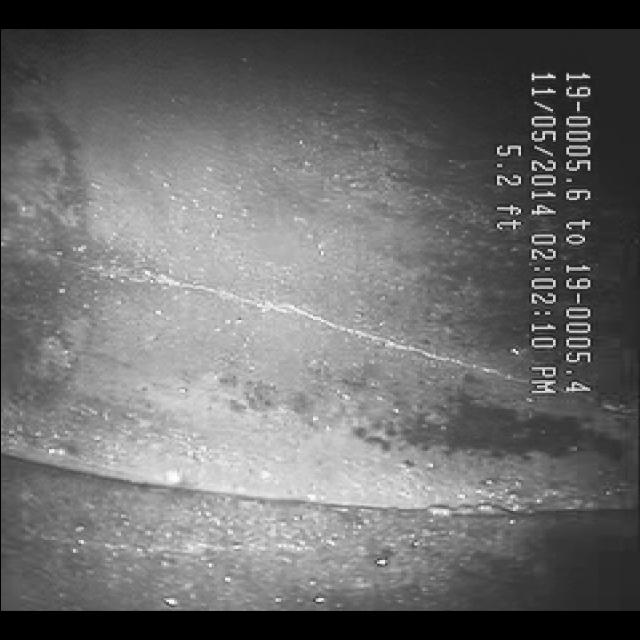Crack: (102, 269, 504, 371)
